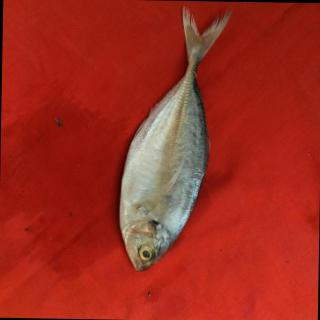Ikan: (109, 3, 245, 281)
